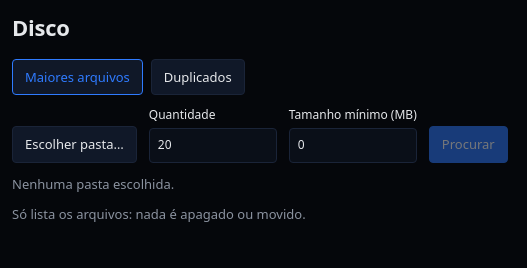
Disco › mostra o erro de validação e volta a habilitar
Click the button "Escolher pasta…" at (74, 144), box [12,126,137,163]
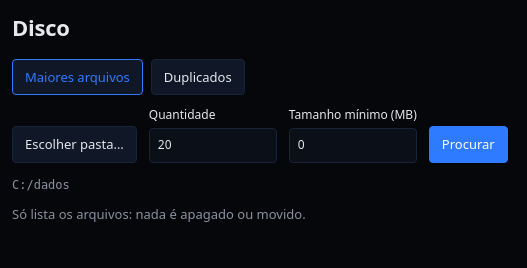
Expected: the text "C:/dados" is shown, [12,178,70,192]
Click the button "Procurar" at (468, 144), box [429,126,508,163]
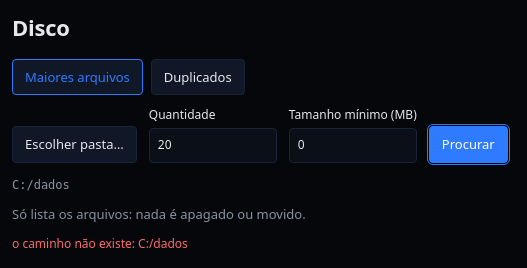
Expected: the button "Procurar" is enabled, [429,126,508,163]
Expected: the message reads "o caminho não existe: C:/dados", [12,235,188,252]
